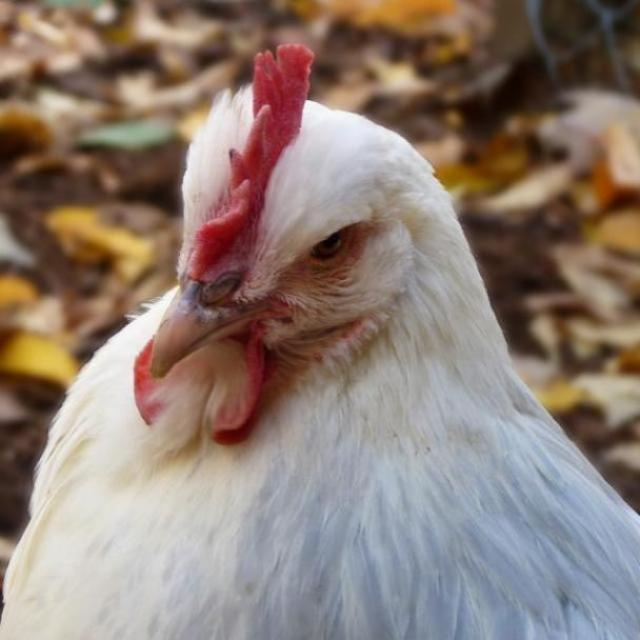Chicken: (2, 43, 640, 636)
